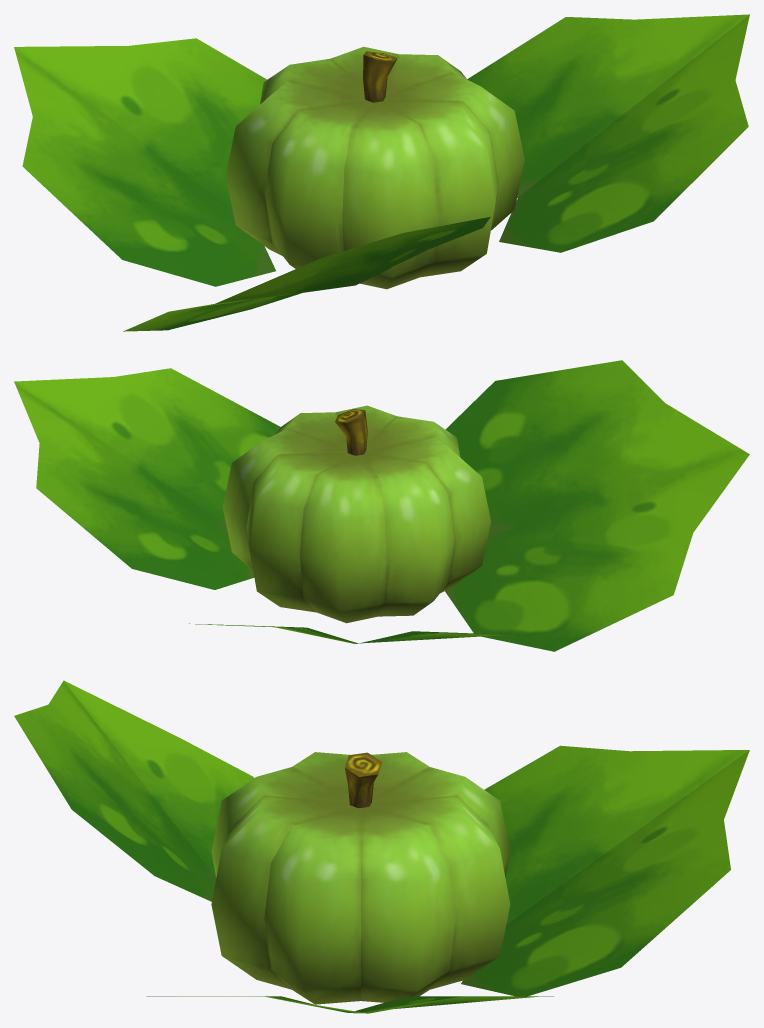
The model's file is pumpkin_baby.fbx.
3 views of the same model, one above another, from view 1: azimuth 30°, elevation 25°; view 2: azimuth 150°, elevation 25°; view 3: azimuth 270°, elevation 25° (orthographic). The views are drawn at different scales.
Parts seen in each view (by area): view 1: pumpkin_baby; view 2: pumpkin_baby; view 3: pumpkin_baby.
Part boxes in pixels (box(x1,y1,x2,y2)): pumpkin_baby: box(14, 14, 749, 331); pumpkin_baby: box(14, 360, 749, 651); pumpkin_baby: box(14, 680, 749, 1013).
Bounding box in the file's own units: 1.01 × 0.3115 × 0.8813.
Materials: 1 (1 with a texture image).
